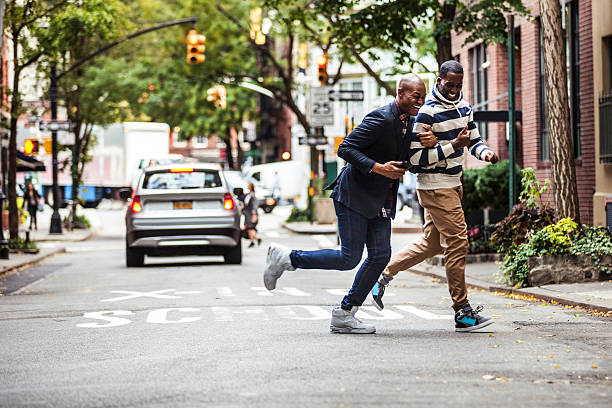otomobil: (94, 141, 258, 263)
yaya: (426, 44, 508, 378), (319, 74, 421, 332)
